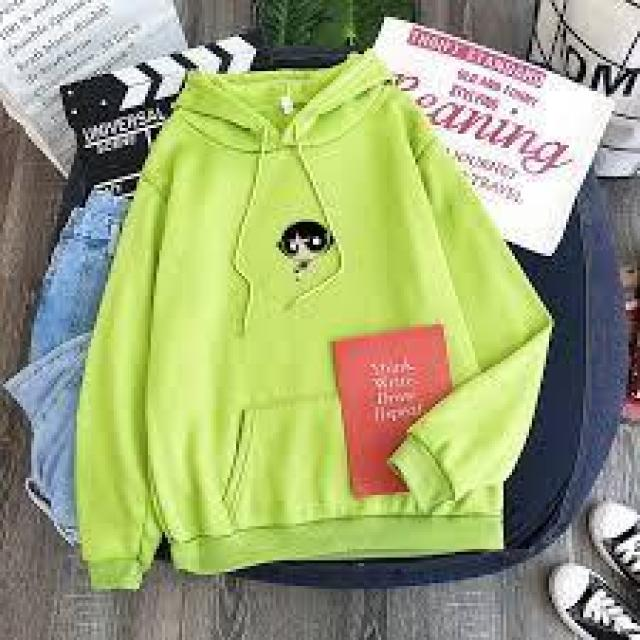sweater: (84, 67, 547, 576)
